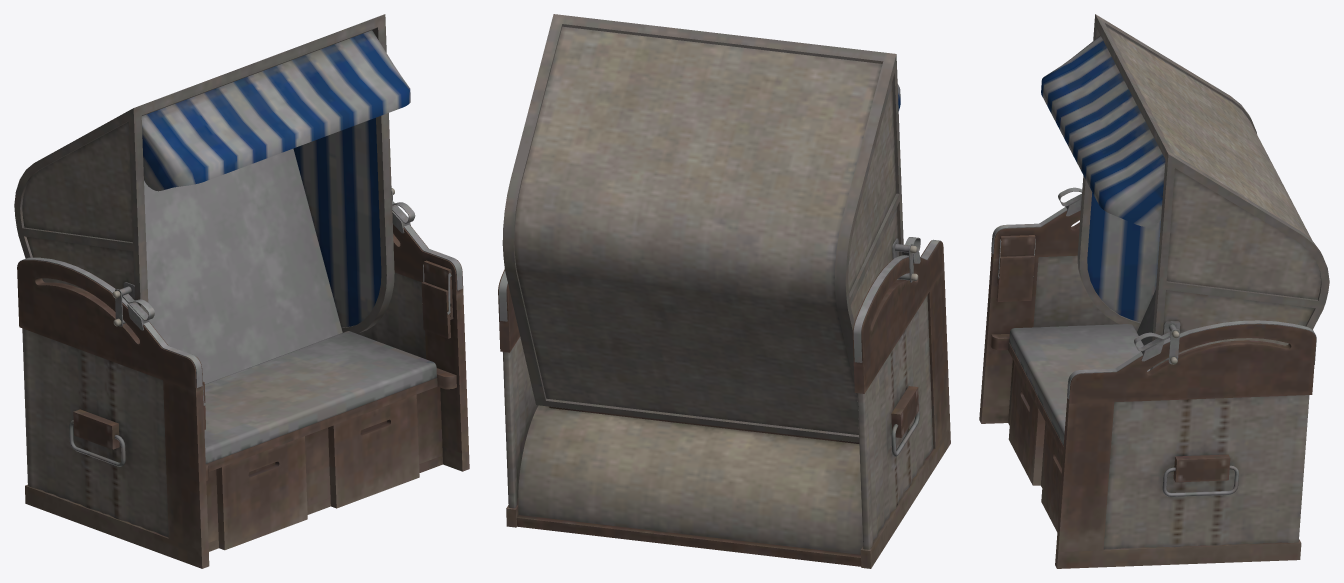
File: ItemSpot.fbx
3 renders of one model, left to right at view 1: azimuth 30°, elevation 25°; view 2: azimuth 150°, elevation 25°; view 3: azimuth 270°, elevation 25°, orthographic. The views are drawn at different scales.
Parts seen in each view (by area): view 1: ItemBox_BeachChair; view 2: ItemBox_BeachChair; view 3: ItemBox_BeachChair.
Part boxes in pixels (x1,y1,x2,y2): ItemBox_BeachChair: [14, 14, 469, 568]; ItemBox_BeachChair: [498, 14, 950, 568]; ItemBox_BeachChair: [979, 14, 1329, 568].
Bounding box in the file's own units: 1.98 × 2.32 × 1.75.
Materials: 1 (1 with a texture image).
